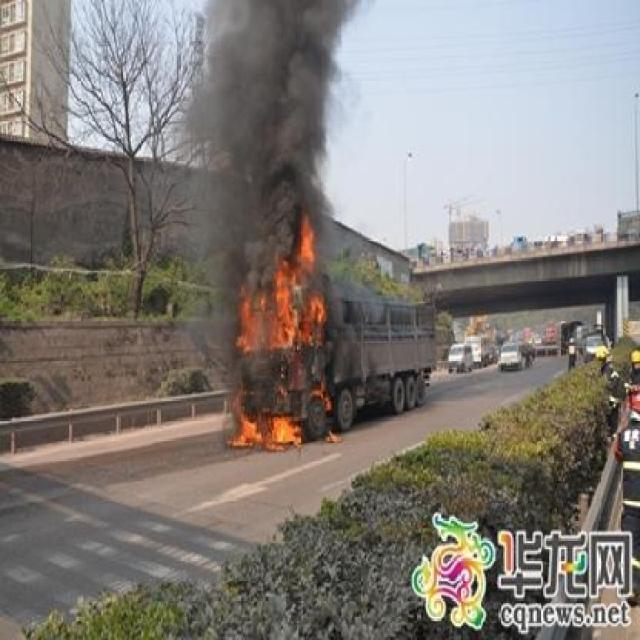Fire: (229, 216, 342, 454)
Smoke: (207, 0, 340, 215)
